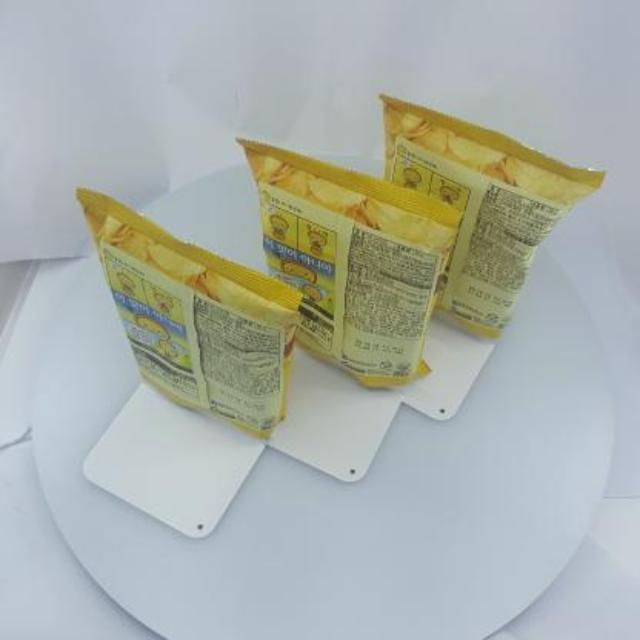snack_bag: (59, 72, 617, 452)
